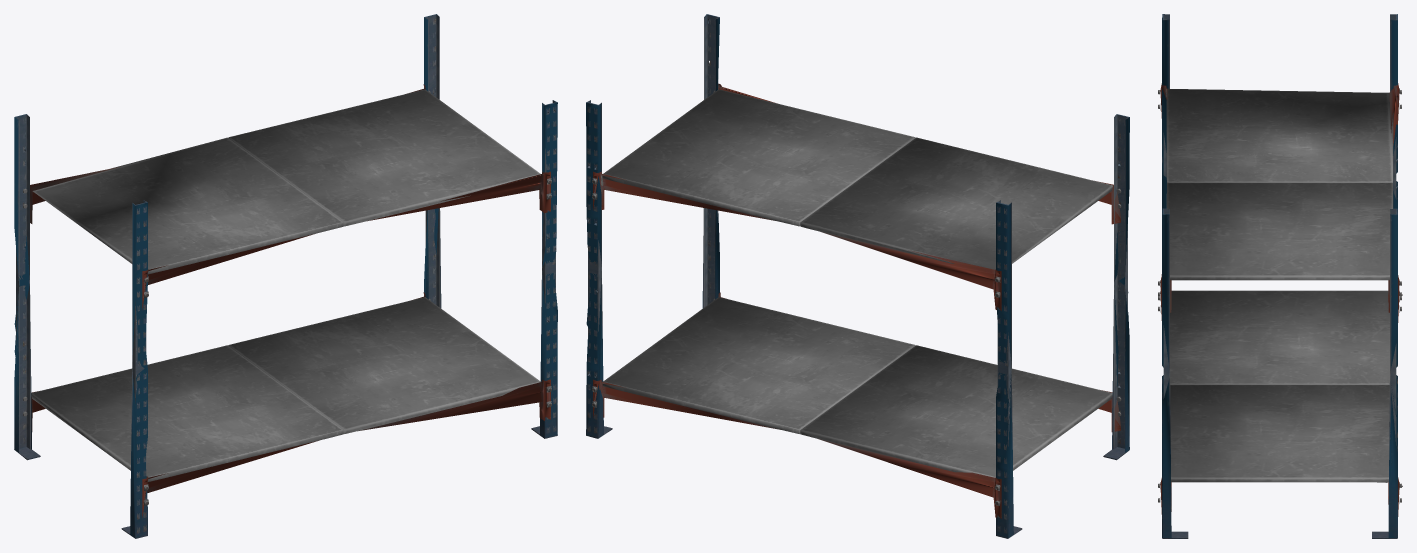
The model's file is rack_large_empty_a01.glb.
The picture shows the model from 3 angles, left to right: view 1: azimuth 30°, elevation 25°; view 2: azimuth 150°, elevation 25°; view 3: azimuth 270°, elevation 25°; orthographic projection. The views are drawn at different scales.
Parts seen in each view (by area): view 1: sm_rack_a01_mesh_00; view 2: sm_rack_a01_mesh_00; view 3: sm_rack_a01_mesh_00.
Part boxes in pixels (x1,y1,x2,y2): sm_rack_a01_mesh_00: (14,14,557,538); sm_rack_a01_mesh_00: (586,14,1129,538); sm_rack_a01_mesh_00: (1158,14,1402,538).
Bounding box in the file's own units: 4 × 3.01 × 2.06.
3 materials, 3 textured.
